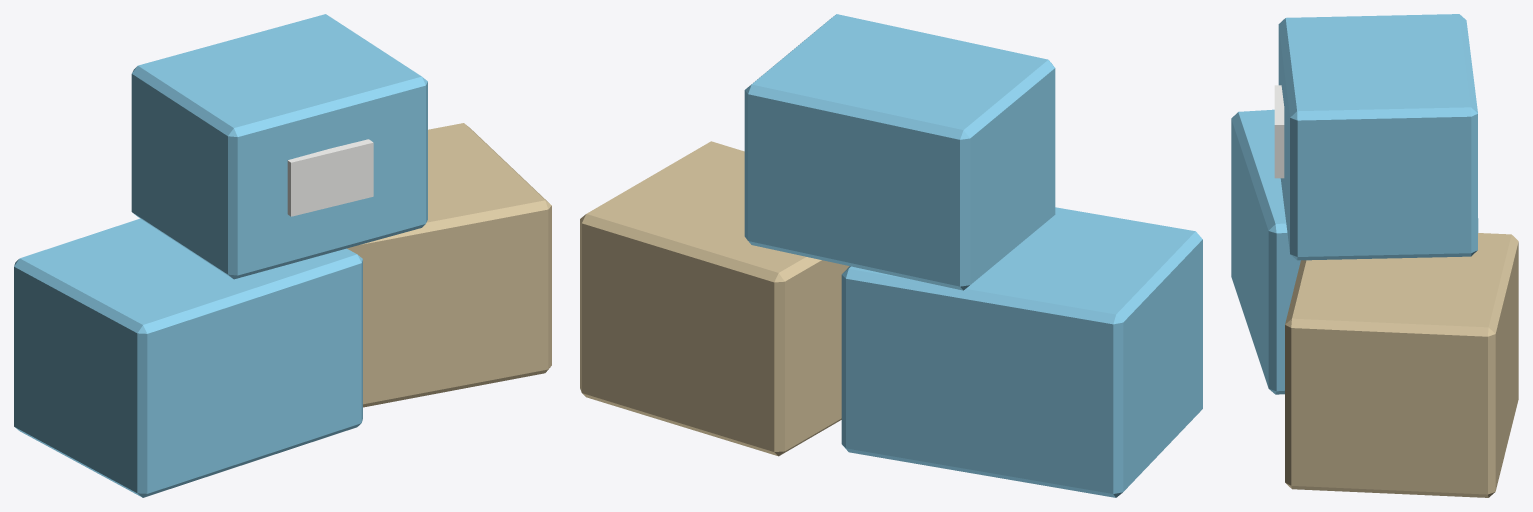
The model's file is boxes.fbx.
3 renders of one model, left to right at view 1: azimuth 30°, elevation 25°; view 2: azimuth 150°, elevation 25°; view 3: azimuth 270°, elevation 25°, orthographic. The views are drawn at different scales.
Parts seen in each view (by area): view 1: boxes; view 2: boxes; view 3: boxes.
Boxes of the visible parts, x1=… form: boxes: x1=14, y1=14, x2=551, y2=497; boxes: x1=580, y1=14, x2=1202, y2=497; boxes: x1=1231, y1=14, x2=1518, y2=497.
Size of the model in its own units: 2.34 by 1.5 by 1.22.
